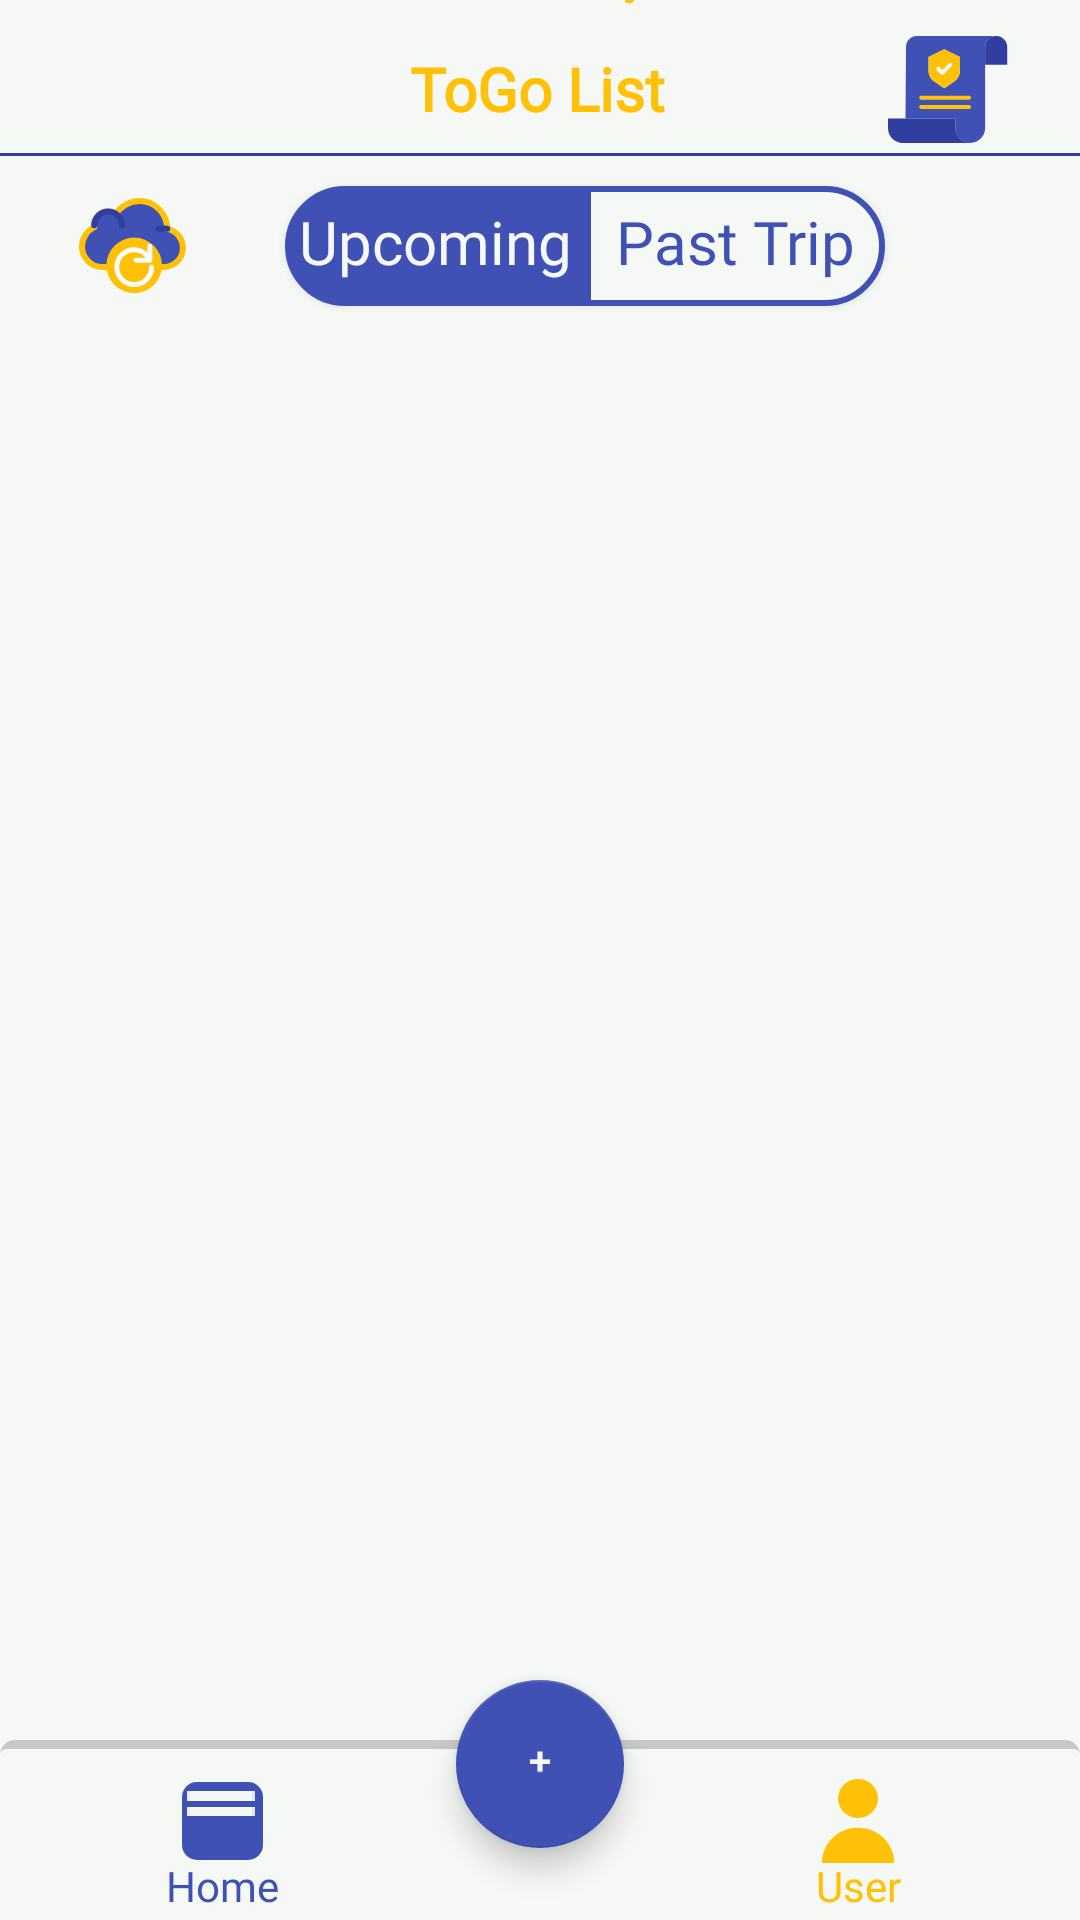

Where to tap for icons on this 1080×1920 app screen, as point (x, y):
add: point (540, 1764)
policy: point (948, 89)
Sync: point (132, 246)
